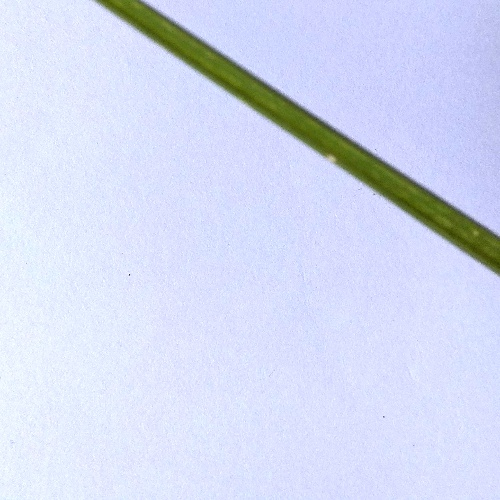Busuk Leher: (322, 144, 341, 172)
